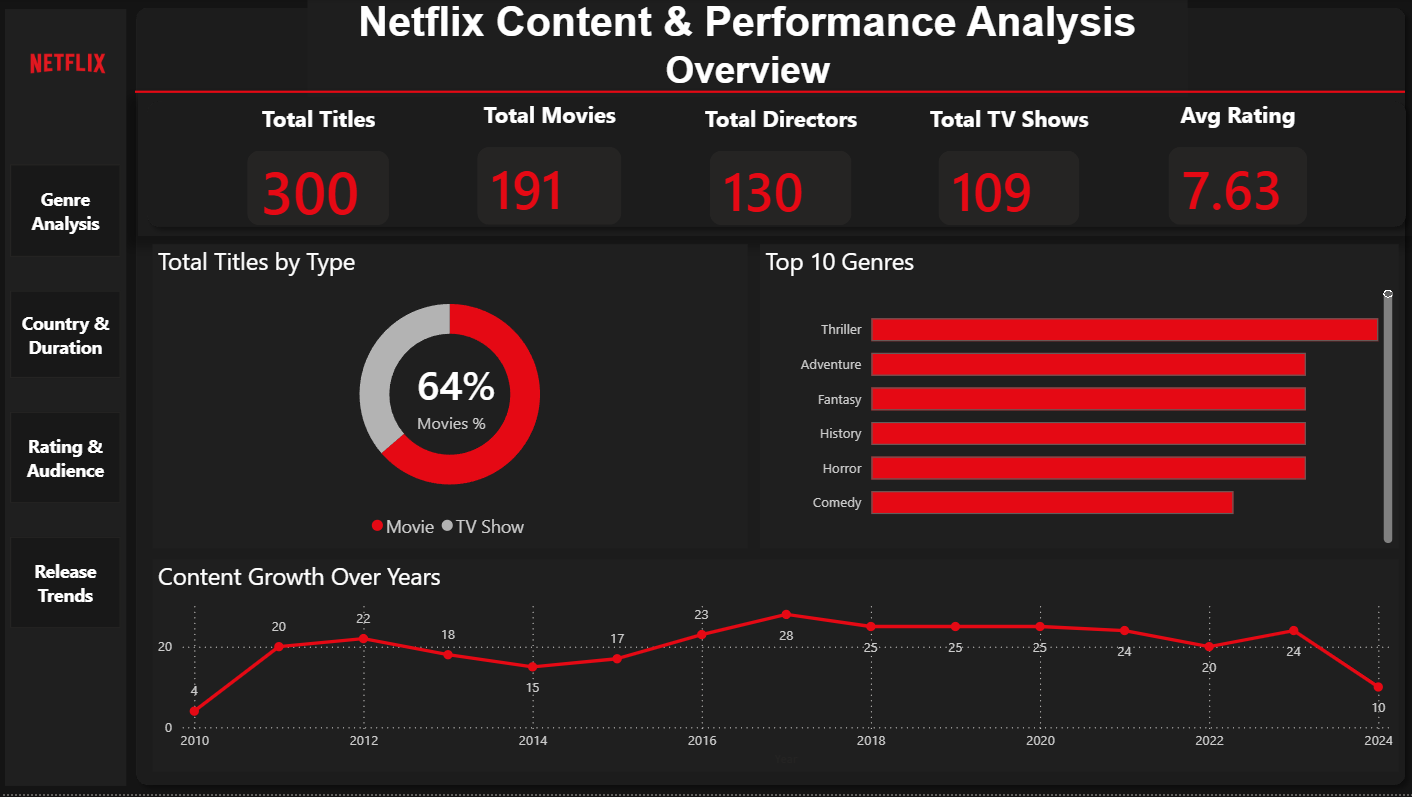

The page's visual inventory and layout, read from the dashboard file:
{"tool":"powerbi","page":{"name":"Overview","canvas":[1280,720],"ordinal":0},"visuals":[{"type":"shape","box":[114.1,0,1165.9,720.7],"z":0},{"type":"textbox","title":"Netflix Content & Performance Analysis","box":[278.3,0,795.8,91.8],"z":1000},{"type":"shape","box":[123.8,84.9,1156.2,130.8],"z":2000},{"type":"cardVisual","title":"Total Titles","fields":{"Data":["Measures Table.Total Titles"]},"box":[207.1,94.6,162.5,128],"z":3000},{"type":"cardVisual","title":"Total Movies","fields":{"Data":["Measures Table.Total Movies"]},"box":[415.2,91.3,164.8,131.4],"z":4000},{"type":"cardVisual","title":"Total Directors","fields":{"Data":["Measures Table.Total Directors"]},"box":[625.6,94.6,162.5,128],"z":5000},{"type":"cardVisual","title":"Total TV Shows","fields":{"Data":["Measures Table.Total TV Shows"]},"box":[832.7,94.6,161.4,128],"z":6000},{"type":"donutChart","fields":{"Category":["Nithish.Type"],"Y":["Measures Table.Total Titles"]},"box":[137.5,222.5,538.2,274.9],"z":7000},{"type":"cardVisual","title":"Total Movies","fields":{"Data":["Measures Table.Movies %"]},"box":[347.9,271.4,161.2,176],"z":7500},{"type":"clusteredBarChart","title":"Top 10 Genres","fields":{"Category":["Nithish.Genre"],"Y":["Measures Table.Total Titles"]},"box":[687.3,222.6,577.4,275.5],"z":8000},{"type":"lineChart","title":"Content Growth Over Years","fields":{"Category":["Date Table.Year"],"Y":["Measures Table.Titles by Year"]},"box":[137.7,507.8,1127,192],"z":9000},{"type":"cardVisual","title":"Avg Rating","fields":{"Data":["Measures Table.Avg Rating"]},"box":[1039.7,91.3,159.2,131.4],"z":10000},{"type":"shape","box":[4.2,9.7,109.9,702.6],"z":11000},{"type":"actionButton","box":[9.3,150.3,100.2,83.9],"z":12000},{"type":"actionButton","box":[9.3,486.9,100.2,82.7],"z":13000},{"type":"actionButton","box":[9.3,373.9,100.2,82.7],"z":14000},{"type":"actionButton","box":[9.3,264.4,100.2,79.2],"z":15000},{"type":"shape","box":[122.1,1.1,1148.7,167.3],"z":16000},{"type":"image","box":[0,0,122.4,124.7],"z":17000}]}

Visuals, with their boxes in screenshot pixels (x1, y1, x2, y2), scaled from the page's 1280x720 canvas onto the 1412x797 screenshot:
shape: region(126, 0, 1411, 796)
"Netflix Content & Performance Analysis" textbox: region(307, 0, 1185, 102)
shape: region(137, 94, 1411, 239)
"Total Titles" cardVisual: region(228, 105, 408, 246)
"Total Movies" cardVisual: region(458, 101, 640, 247)
"Total Directors" cardVisual: region(690, 105, 869, 246)
"Total TV Shows" cardVisual: region(919, 105, 1097, 246)
donutChart - Nithish.Type x Measures Table.Total Titles: region(152, 246, 745, 551)
"Total Movies" cardVisual: region(384, 300, 562, 495)
"Top 10 Genres" clusteredBarChart: region(758, 246, 1395, 551)
"Content Growth Over Years" lineChart: region(152, 562, 1395, 775)
"Avg Rating" cardVisual: region(1147, 101, 1323, 247)
shape: region(5, 11, 126, 788)
actionButton: region(10, 166, 121, 259)
actionButton: region(10, 539, 121, 631)
actionButton: region(10, 414, 121, 505)
actionButton: region(10, 293, 121, 380)
shape: region(135, 1, 1402, 186)
image: region(0, 0, 135, 138)
